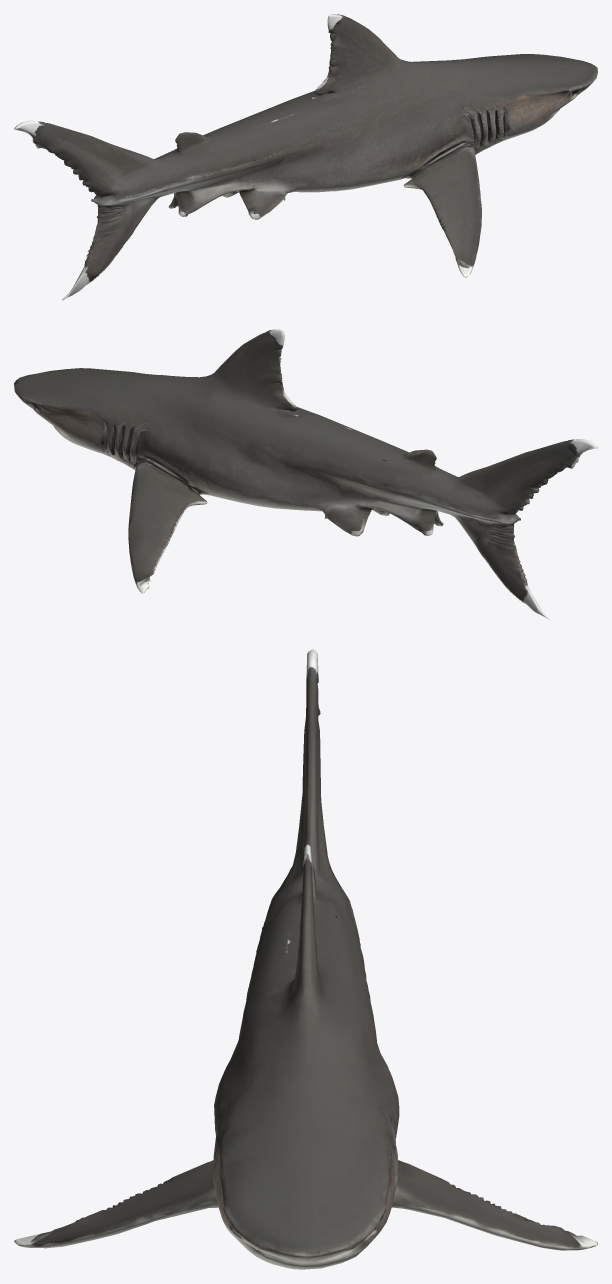
File: whitetip.glb
3 views of the same model, one above another, from view 1: azimuth 30°, elevation 25°; view 2: azimuth 150°, elevation 25°; view 3: azimuth 270°, elevation 25° (orthographic). The views are drawn at different scales.
Parts seen in each view (by area): view 1: tripo_node_7f44f10e-00a1-442f-978e-d1a7afd70de5; view 2: tripo_node_7f44f10e-00a1-442f-978e-d1a7afd70de5; view 3: tripo_node_7f44f10e-00a1-442f-978e-d1a7afd70de5.
Boxes of the visible parts, <box> form: tripo_node_7f44f10e-00a1-442f-978e-d1a7afd70de5: <box>14,14,597,300</box>; tripo_node_7f44f10e-00a1-442f-978e-d1a7afd70de5: <box>14,329,597,620</box>; tripo_node_7f44f10e-00a1-442f-978e-d1a7afd70de5: <box>14,649,597,1269</box>.
Size of the model in its own units: 1 by 0.3669 by 0.5179.
1 material, 1 textured.
